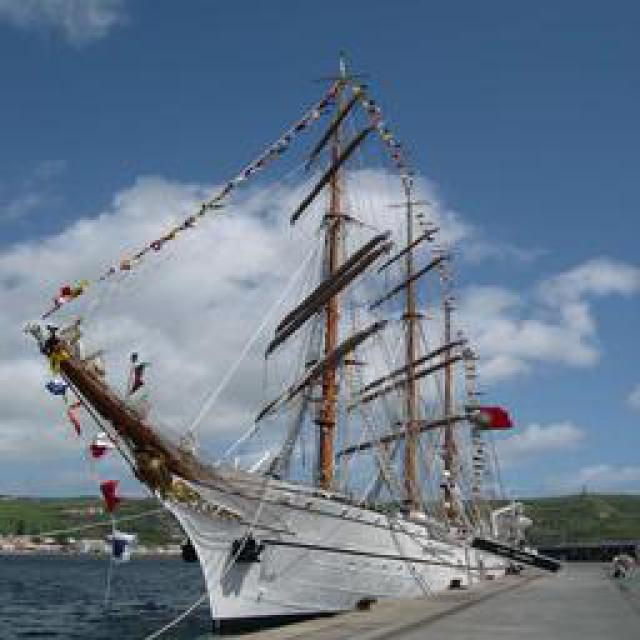Ship: (42, 77, 550, 630)
